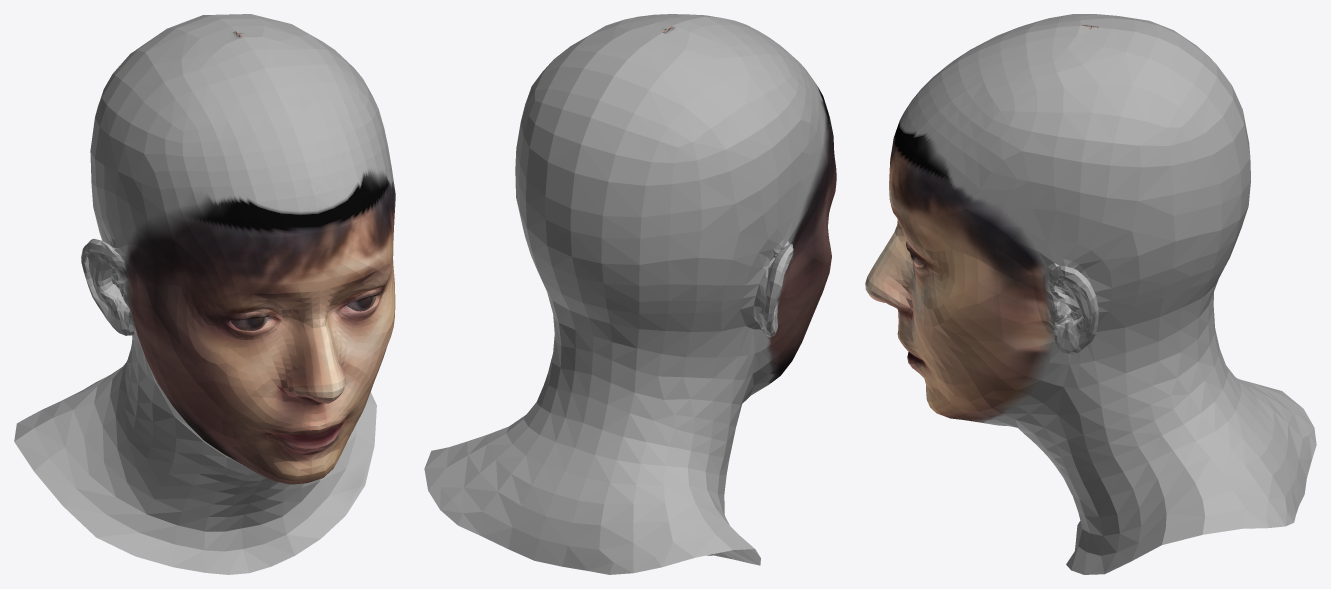
File: KakaoTalk_20240602_131037572-align-project.obj
3 renders of one model, left to right at view 1: azimuth 30°, elevation 25°; view 2: azimuth 150°, elevation 25°; view 3: azimuth 270°, elevation 25°, orthographic.
Size of the model in its own units: 0.2071 by 0.3229 by 0.2504.
1 material, 1 textured.
